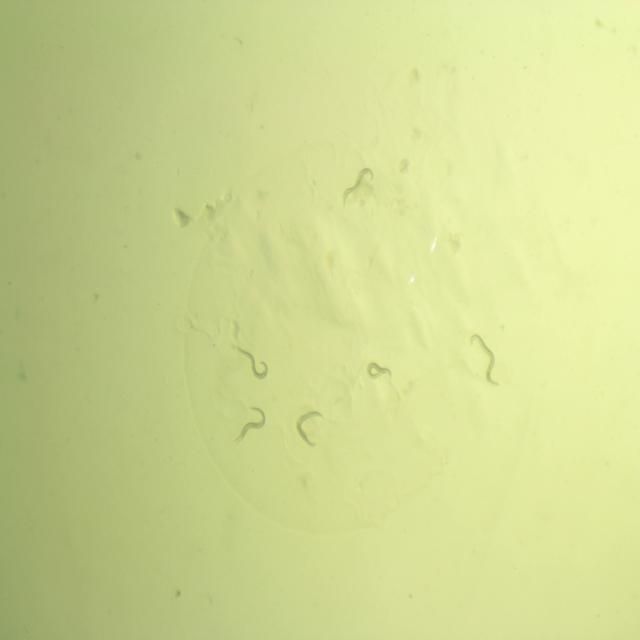worm: (468, 330, 502, 392), (226, 404, 269, 447), (339, 162, 378, 208), (232, 343, 272, 383), (292, 408, 328, 450), (365, 356, 396, 389)
